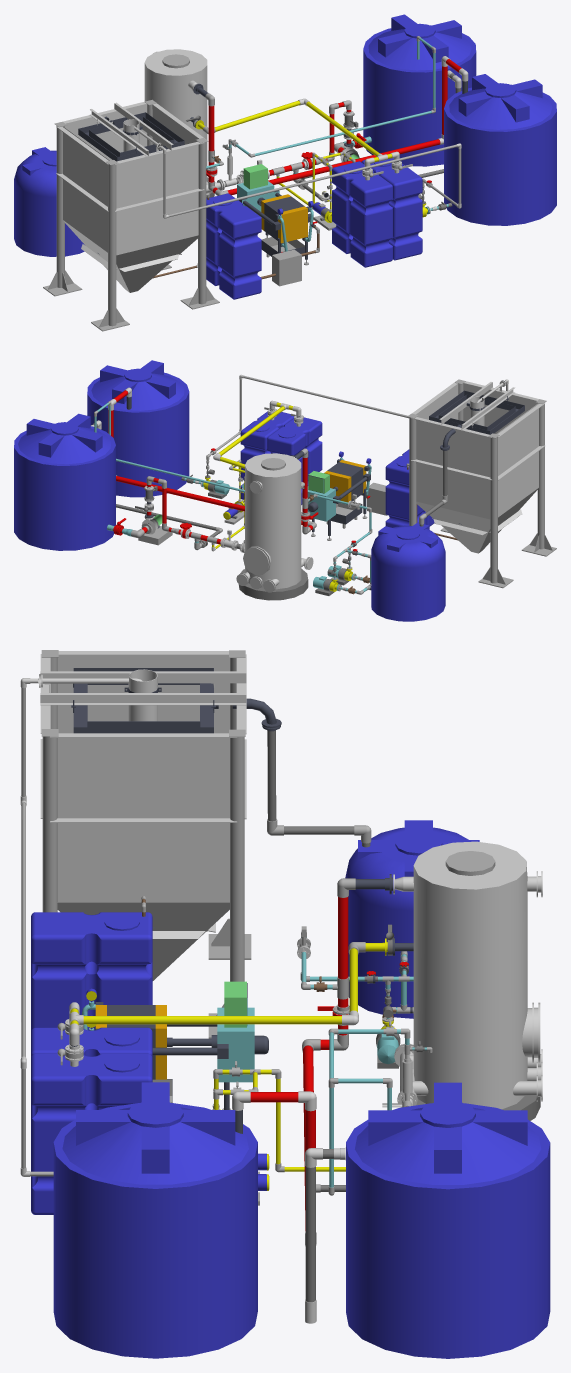
The model's file is piping system.fbx.
3 views of the same model, one above another, from view 1: azimuth 30°, elevation 25°; view 2: azimuth 150°, elevation 25°; view 3: azimuth 270°, elevation 25° (orthographic). The views are drawn at different scales.
Parts seen in each view (by area): view 1: TEST3:Mesh328, TEST3:Mesh499, TEST3:Mesh77, TEST3:Mesh80, TEST3:Mesh251, TEST3:Mesh21, TEST3:Mesh458, TEST3:Mesh79, TEST3:Mesh482, TEST3:Mesh252, TEST3:Mesh74, TEST3:Mesh35 (+16 smaller); view 2: TEST3:Mesh499, TEST3:Mesh328, TEST3:Mesh482, TEST3:Mesh458, TEST3:Mesh76, TEST3:Mesh80, TEST3:Mesh79, TEST3:Mesh251, TEST3:Mesh21, TEST3:Mesh74, TEST3:Mesh252, TEST3:Mesh35 (+17 smaller); view 3: TEST3:Mesh499, TEST3:Mesh328, TEST3:Mesh482, TEST3:Mesh78, TEST3:Mesh21, TEST3:Mesh458, TEST3:Mesh252, TEST3:Mesh80, TEST3:Mesh79, TEST3:Mesh74, TEST3:Mesh35, TEST3:Mesh251 (+15 smaller).
Boxes of the visible parts, box(x1,y1,x2,y2) form: TEST3:Mesh328: box(444, 74, 556, 225); TEST3:Mesh499: box(363, 14, 476, 166); TEST3:Mesh77: box(116, 141, 198, 255); TEST3:Mesh80: box(43, 99, 219, 331); TEST3:Mesh251: box(332, 161, 392, 267); TEST3:Mesh21: box(206, 193, 261, 299); TEST3:Mesh458: box(14, 147, 84, 256); TEST3:Mesh79: box(63, 126, 109, 252); TEST3:Mesh482: box(144, 49, 222, 192); TEST3:Mesh252: box(361, 158, 422, 260); TEST3:Mesh74: box(63, 220, 198, 292); TEST3:Mesh35: box(78, 112, 184, 161); TEST3:Mesh499: box(14, 413, 115, 550); TEST3:Mesh328: box(87, 360, 189, 497); TEST3:Mesh482: box(236, 453, 313, 592); TEST3:Mesh458: box(371, 522, 445, 621); TEST3:Mesh76: box(416, 417, 490, 519); TEST3:Mesh80: box(407, 379, 556, 588); TEST3:Mesh79: box(496, 403, 538, 517); TEST3:Mesh251: box(267, 417, 322, 504); TEST3:Mesh21: box(385, 449, 434, 527); TEST3:Mesh74: box(416, 488, 538, 553); TEST3:Mesh252: box(240, 411, 294, 499); TEST3:Mesh35: box(429, 391, 524, 434); TEST3:Mesh499: box(346, 1082, 550, 1358); TEST3:Mesh328: box(53, 1082, 257, 1358); TEST3:Mesh482: box(393, 841, 542, 1109); TEST3:Mesh78: box(57, 733, 229, 902); TEST3:Mesh21: box(31, 912, 152, 1030); TEST3:Mesh458: box(345, 820, 479, 1018); TEST3:Mesh252: box(31, 1053, 152, 1214); TEST3:Mesh80: box(41, 650, 251, 1038); TEST3:Mesh79: box(57, 654, 229, 733); TEST3:Mesh74: box(57, 902, 229, 980); TEST3:Mesh35: box(73, 668, 213, 733); TEST3:Mesh251: box(31, 1027, 152, 1057).
Size of the model in its own units: 1070 by 374 by 566.
